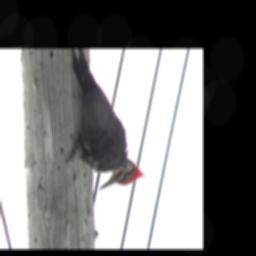Woodpecker: (64, 49, 146, 192)
